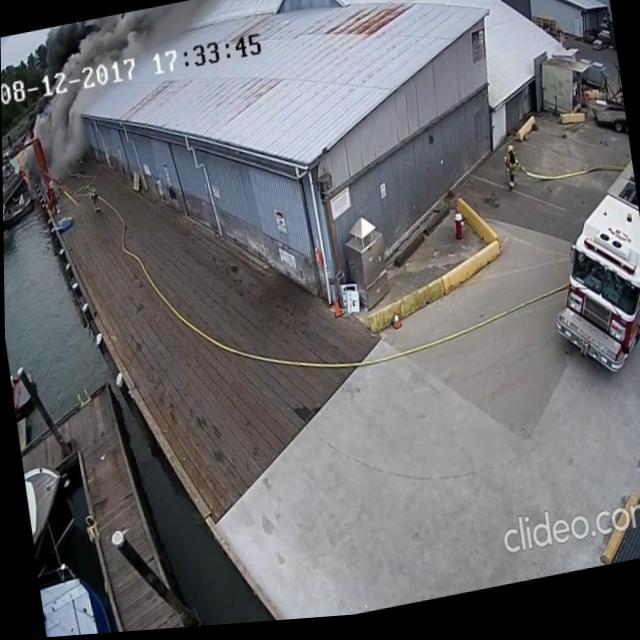fire: (16, 156, 29, 188)
